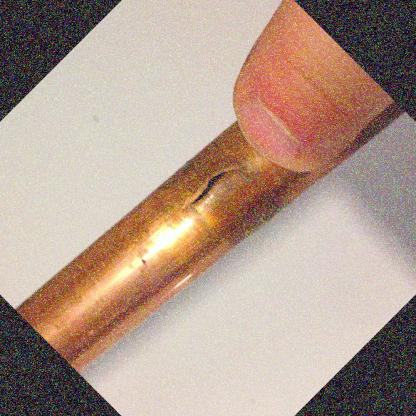burst: (187, 173, 239, 210)
